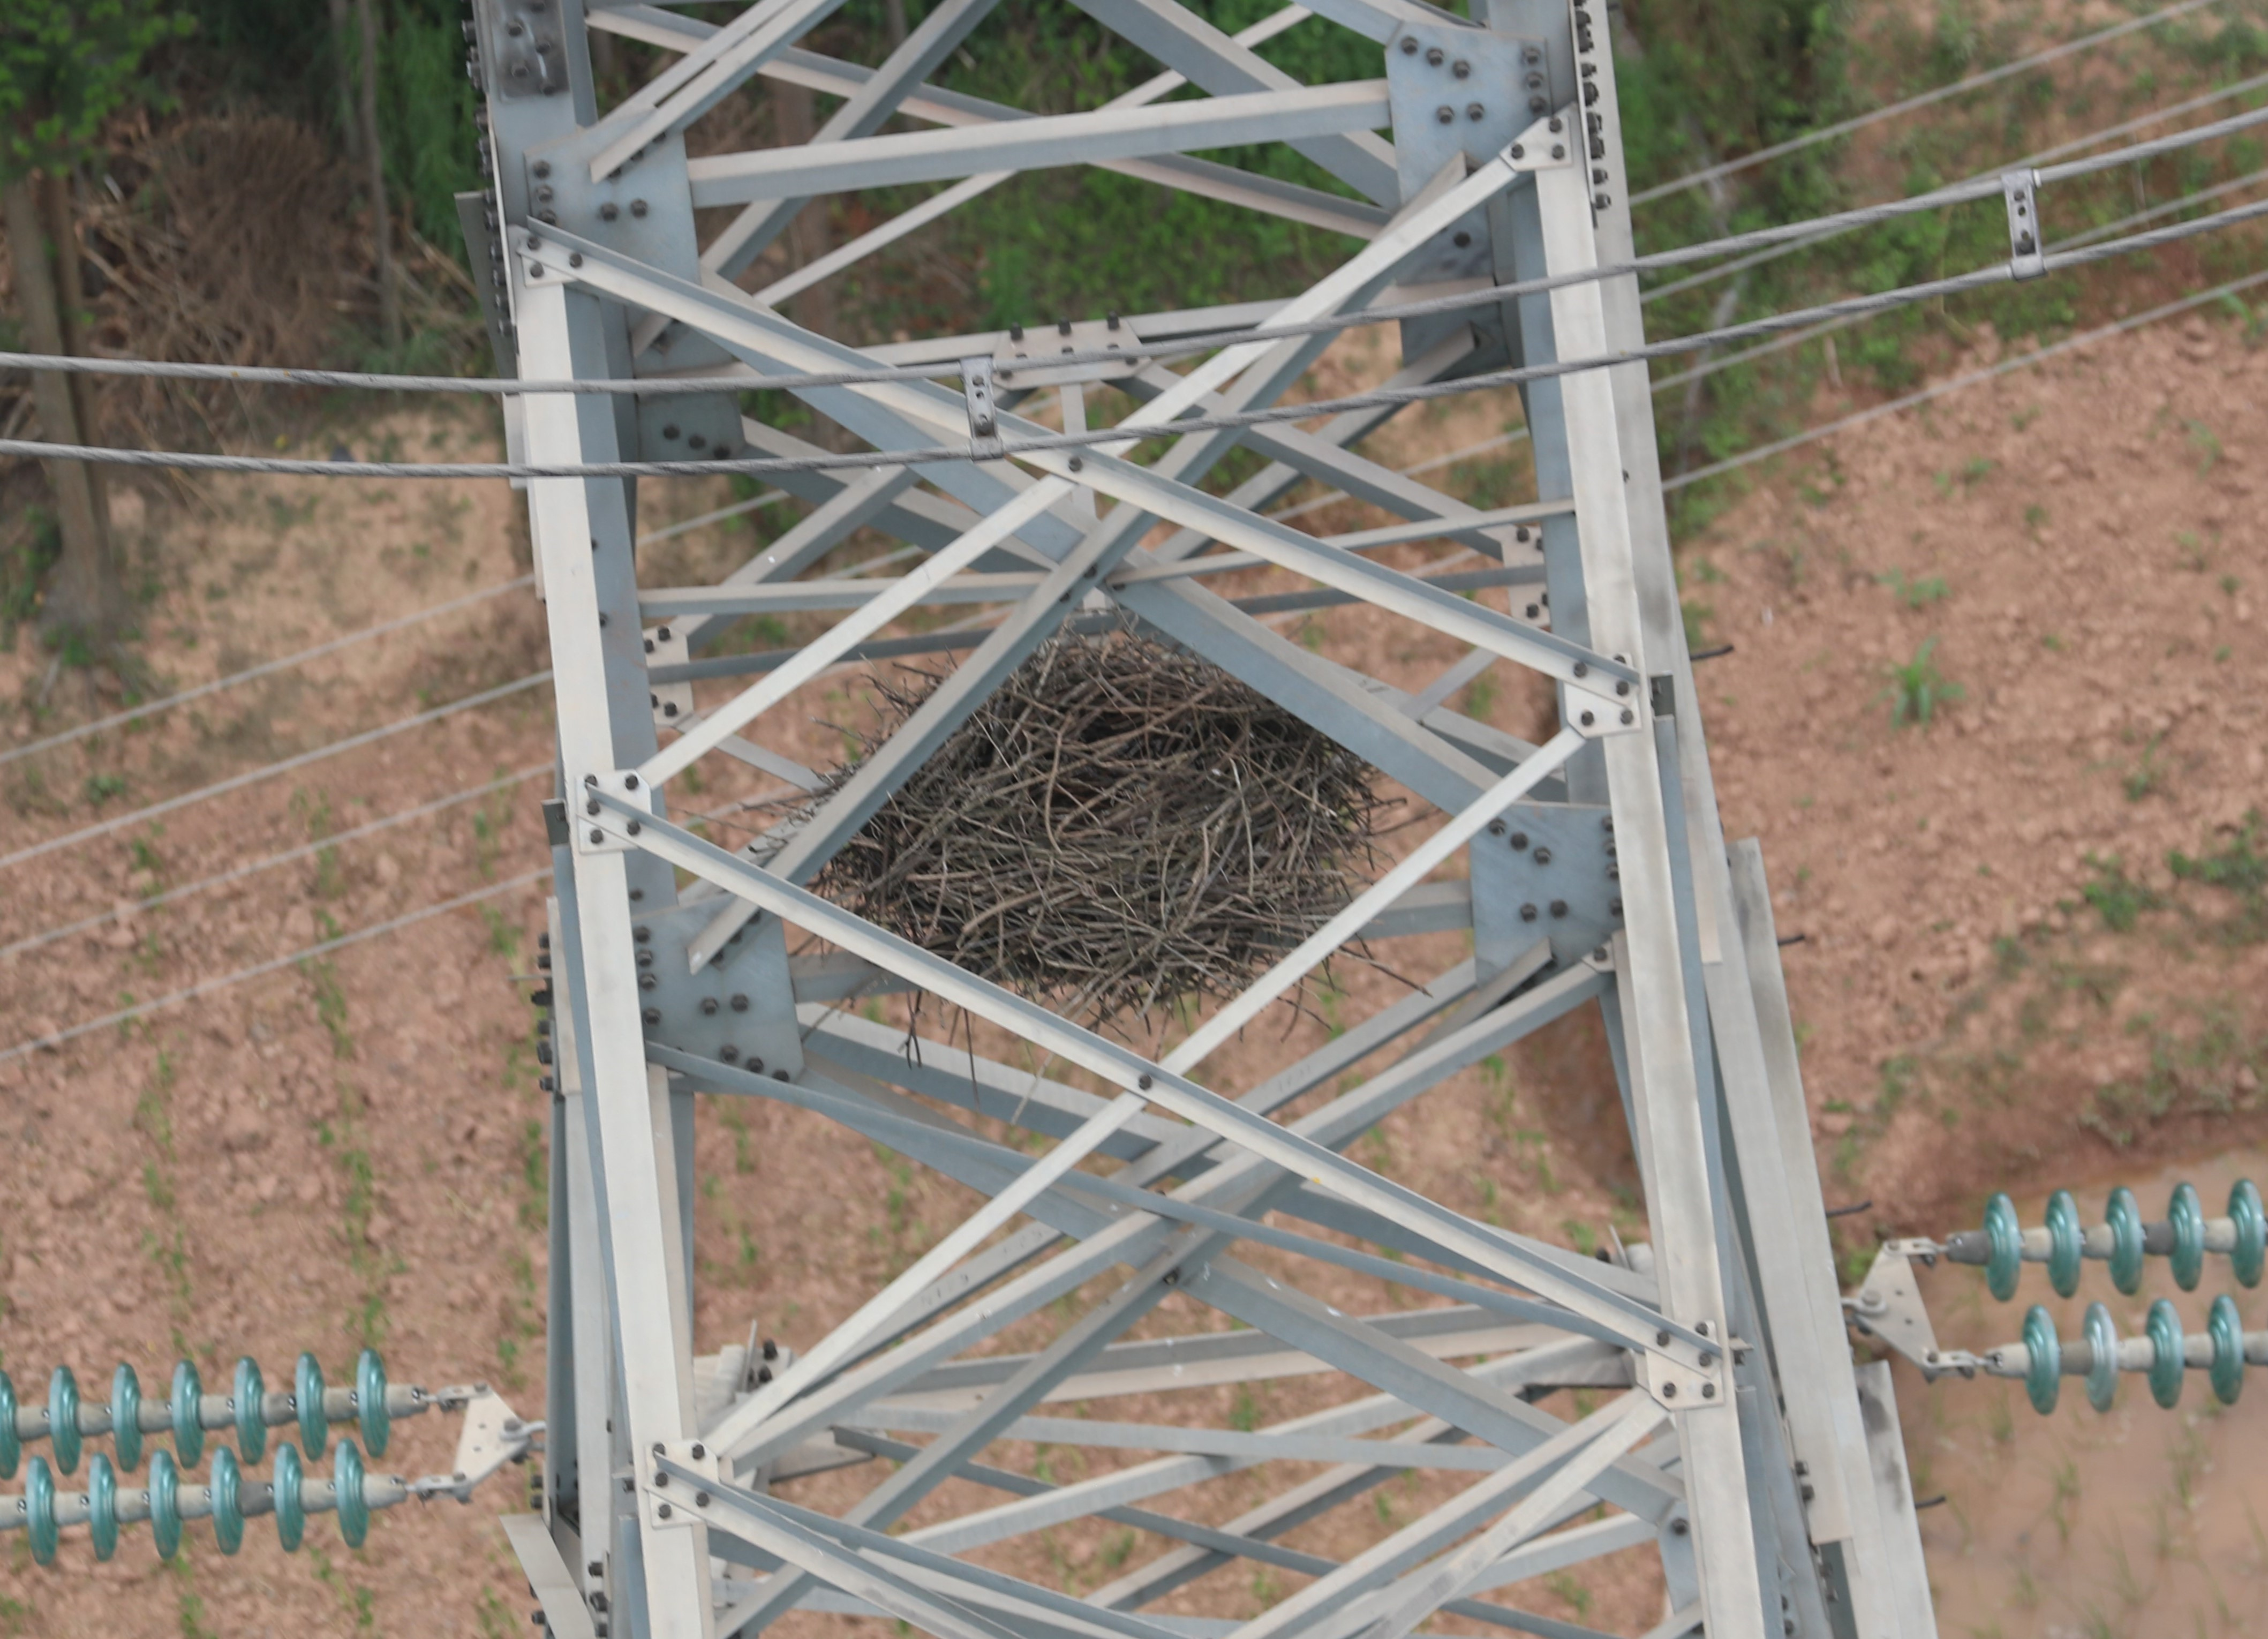niaowo: (835, 606, 1398, 1021)
